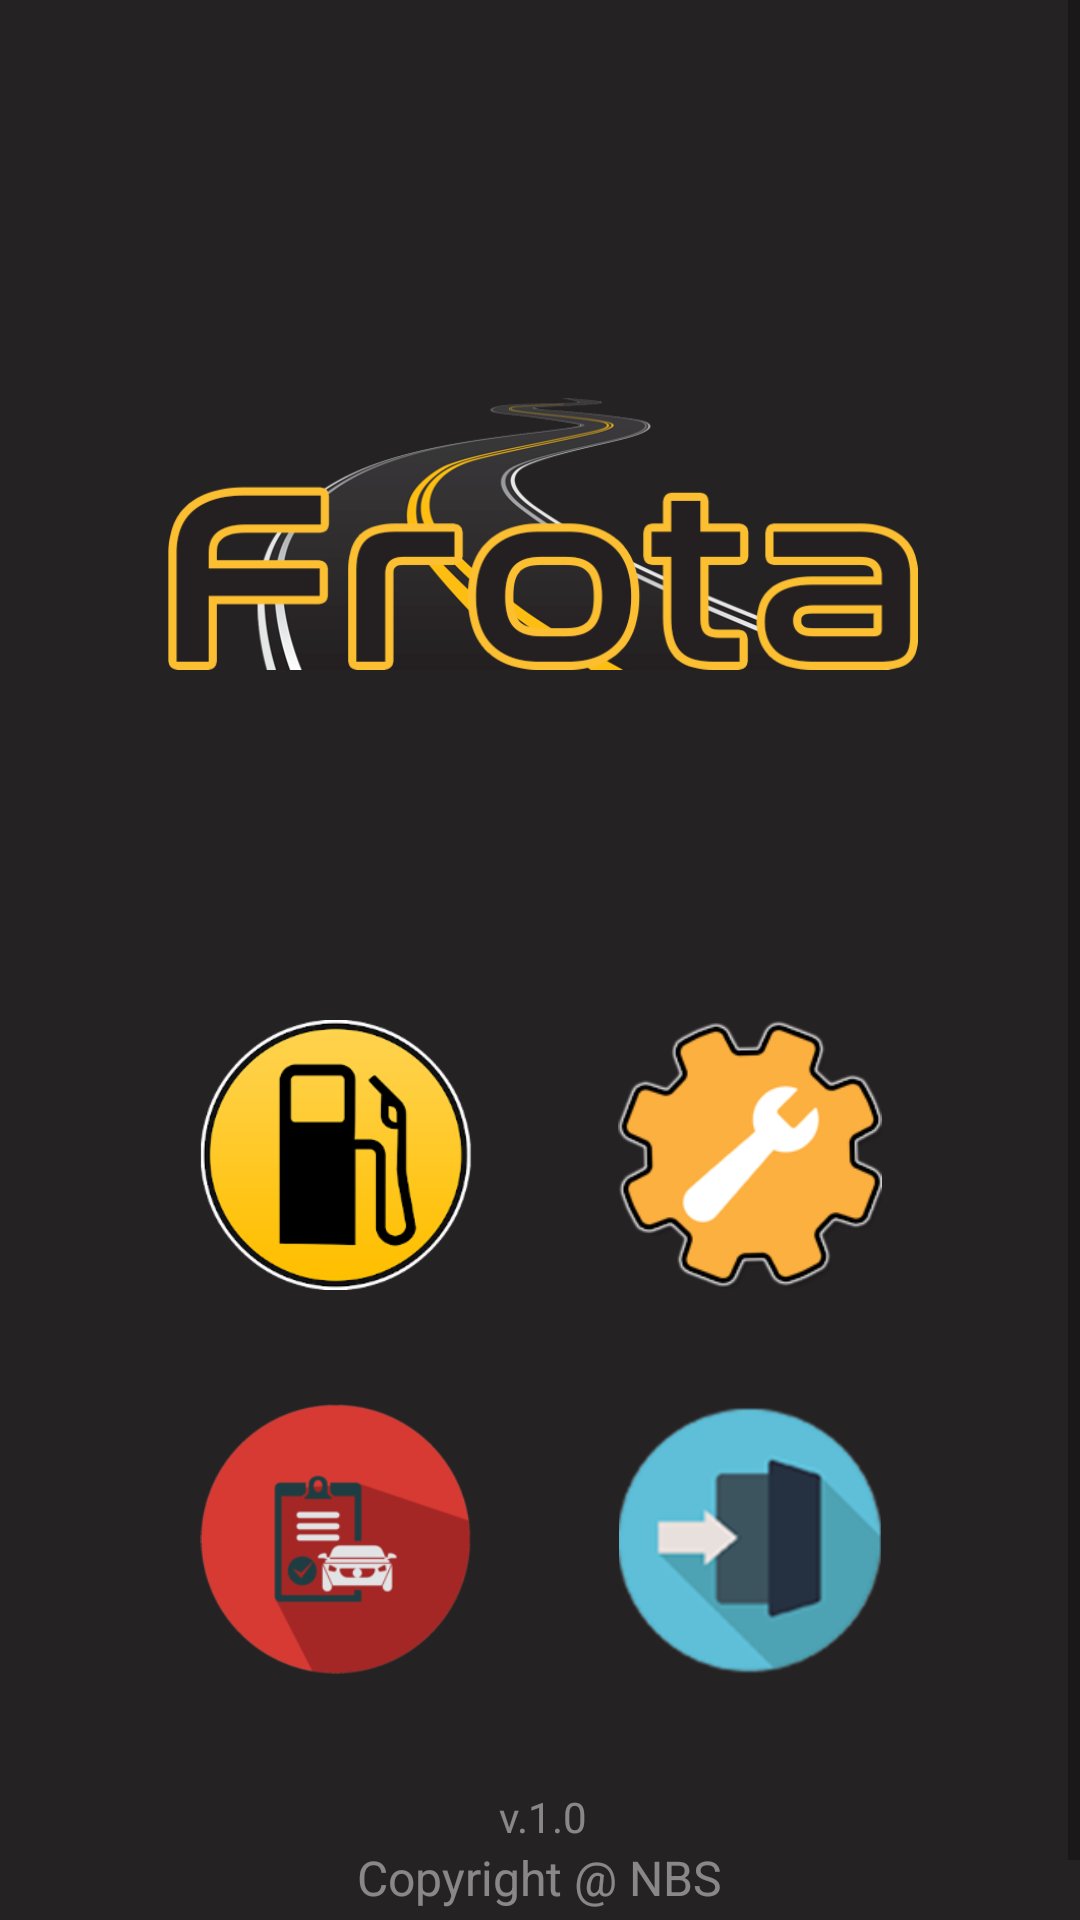

Locate icon controls on the screen. Image size 1080 × 1920, boxes as box(x1, y1, x2, y2).
checklist: box(200, 1404, 471, 1674)
fuel: box(201, 1020, 471, 1290)
manutencao: box(618, 1021, 882, 1287)
sair: box(619, 1408, 881, 1673)
